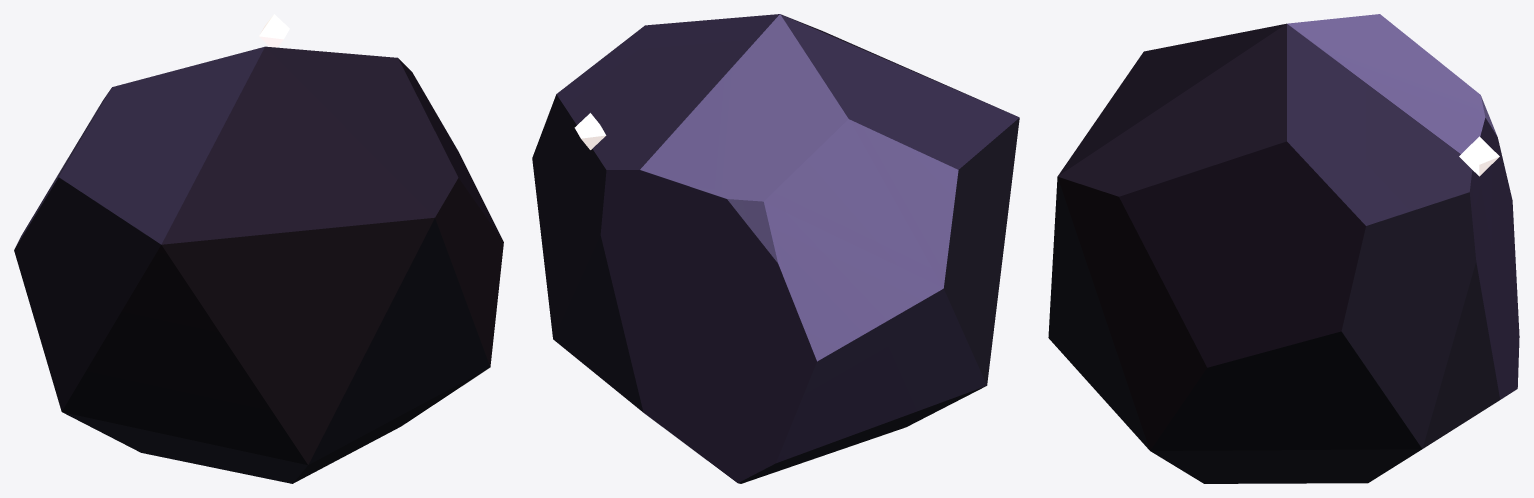
Rendered from ore_obsidian_low.glb.
3 renders of one model, left to right at view 1: azimuth 30°, elevation 25°; view 2: azimuth 150°, elevation 25°; view 3: azimuth 270°, elevation 25°, orthographic. The views are drawn at different scales.
Size of the model in its own units: 0.26 by 0.22 by 0.23.
